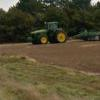Tractor: (24, 16, 66, 49)
